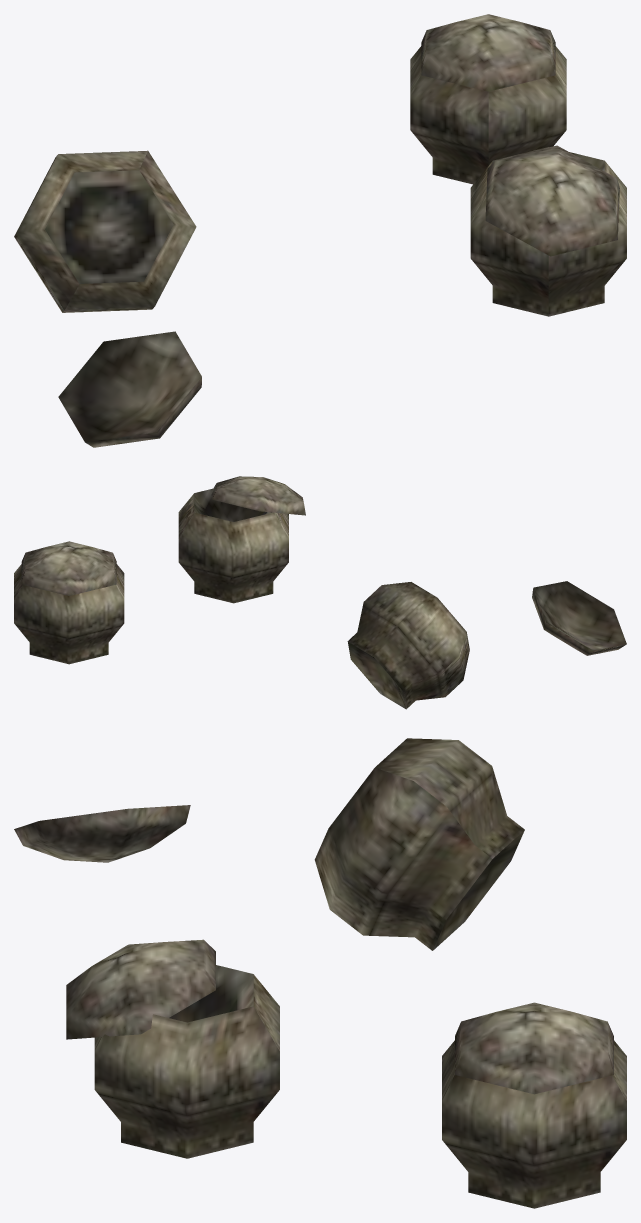
Rendered from cj_graveyard_coffin02.glb.
3 views of the same model, one above another, from view 1: azimuth 30°, elevation 25°; view 2: azimuth 150°, elevation 25°; view 3: azimuth 270°, elevation 25° (orthographic). The views are drawn at different scales.
Visible parts, largest first — view 1: cj_graveyard_coffin02; view 2: cj_graveyard_coffin02; view 3: cj_graveyard_coffin02.
Part boxes in pixels (x1,y1,x2,y2): cj_graveyard_coffin02: (14,14,626,447); cj_graveyard_coffin02: (14,476,626,709); cj_graveyard_coffin02: (14,738,626,1208).
Bounding box in the file's own units: 1.79 × 0.3721 × 1.19.
Materials: 1 (1 with a texture image).
